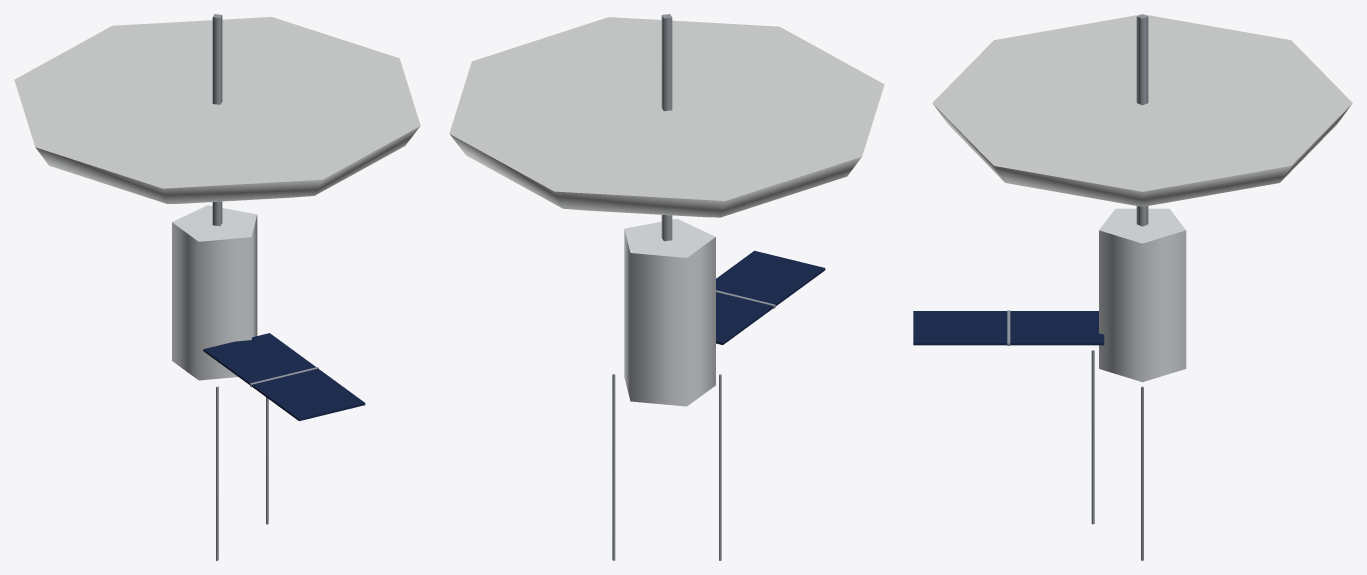
Rendered from space_orbital_radar_t1_lod1.glb.
The picture shows the model from 3 angles, left to right: view 1: azimuth 30°, elevation 25°; view 2: azimuth 150°, elevation 25°; view 3: azimuth 270°, elevation 25°; orthographic projection. The views are drawn at different scales.
Parts seen in each view (by area): view 1: dish, body, solar_0; view 2: dish, body, solar_0; view 3: dish, body, solar_0.
Part boxes in pixels (left/top/right/bottom): dish: left=14, top=14, right=420, bottom=225; body: left=172, top=205, right=268, bottom=560; solar_0: left=203, top=333, right=365, bottom=421; dish: left=449, top=14, right=884, bottom=241; body: left=612, top=219, right=721, bottom=560; solar_0: left=716, top=250, right=825, bottom=344; dish: left=932, top=14, right=1352, bottom=226; body: left=1091, top=208, right=1186, bottom=560; solar_0: left=913, top=310, right=1104, bottom=345.
Size of the model in its own units: 11 by 15 by 11.5.
